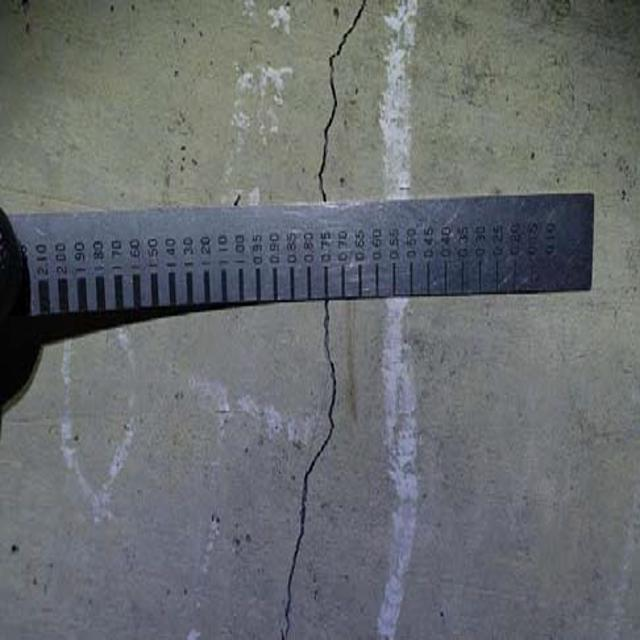crack: (268, 313, 363, 633), (313, 5, 368, 212)
